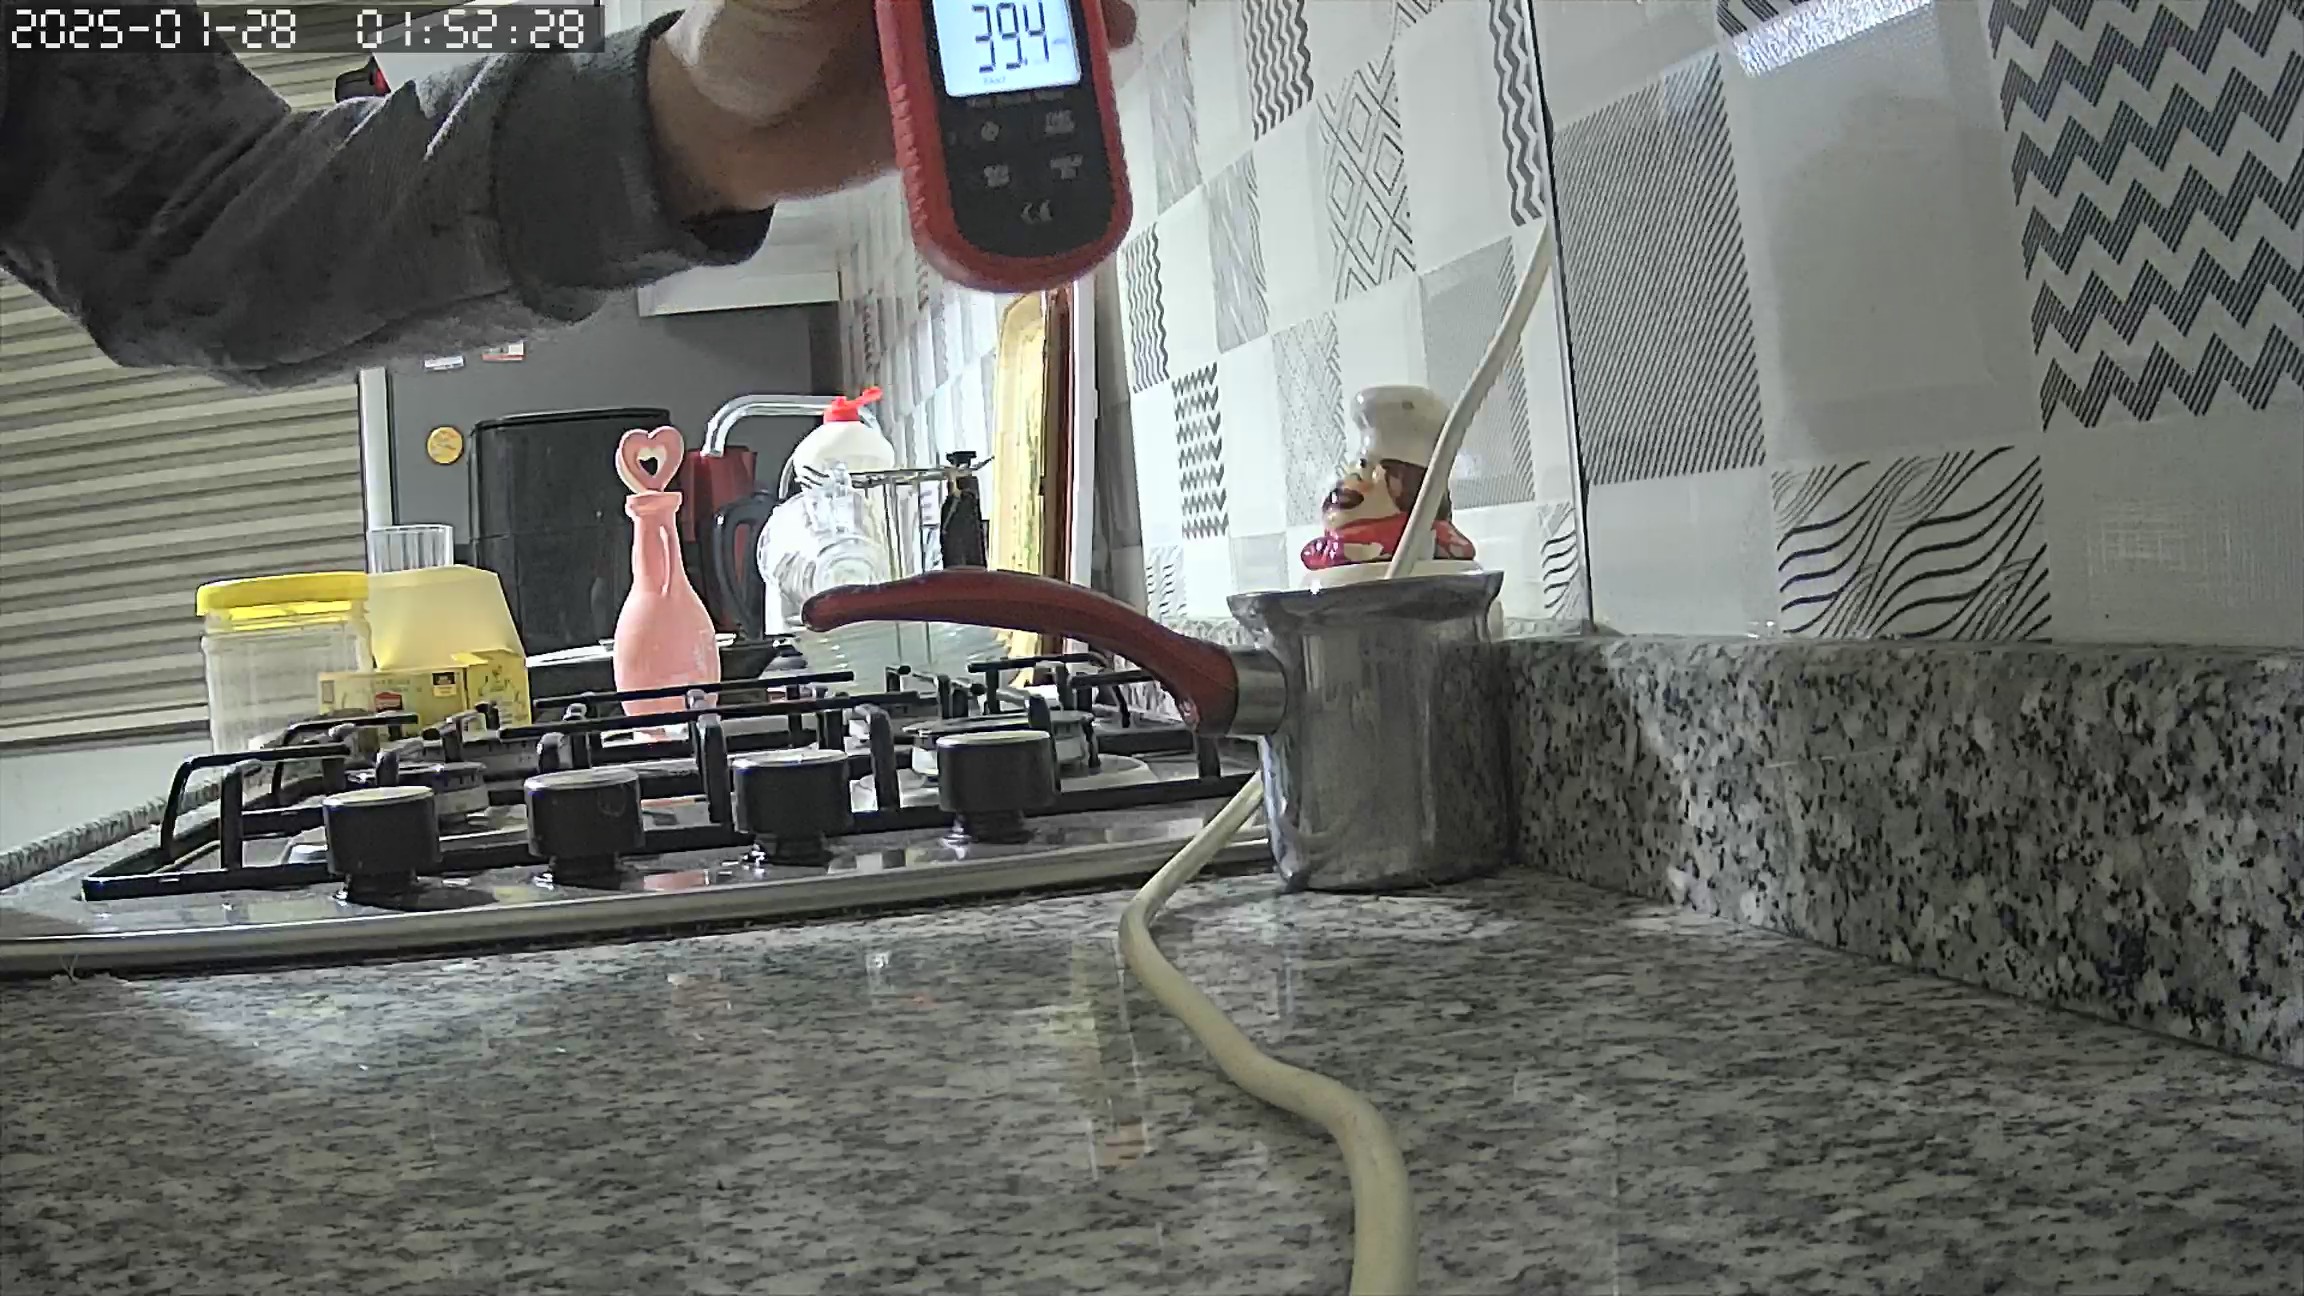screen: (929, 2, 1082, 100)
